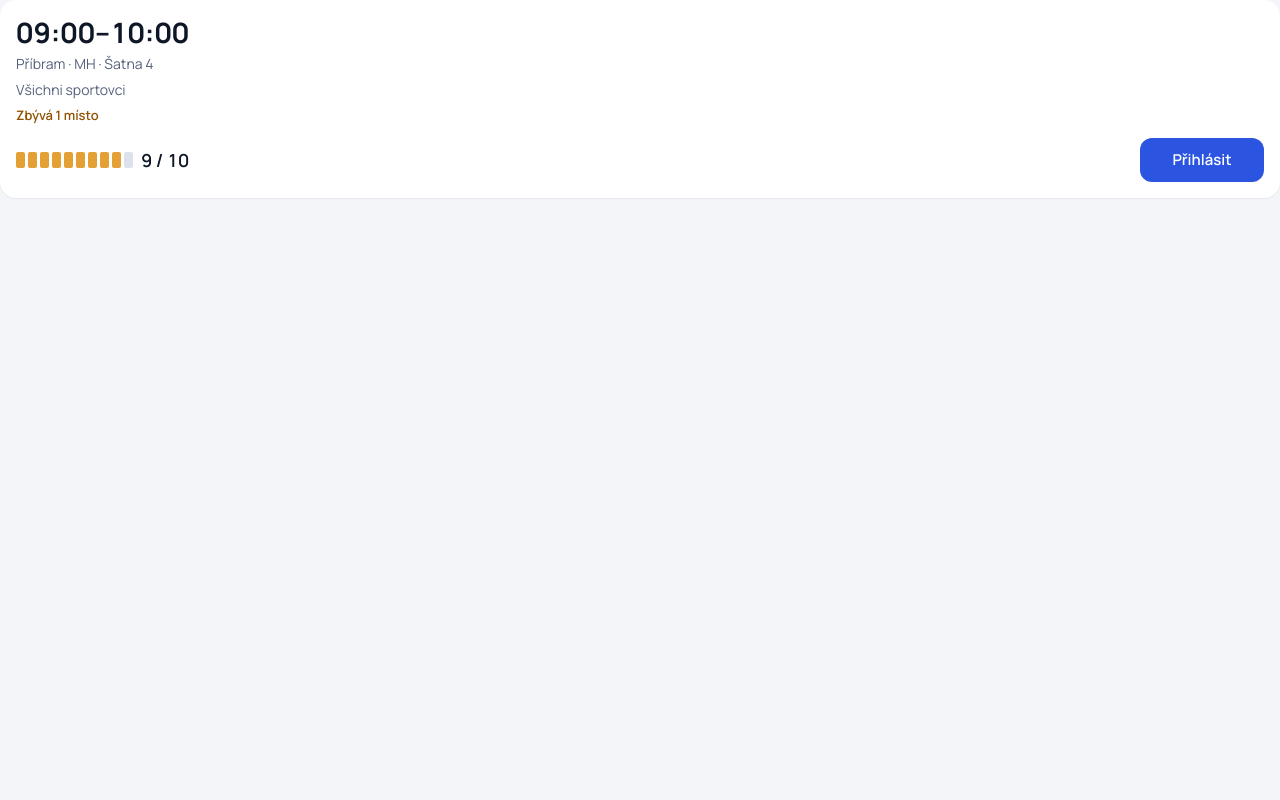
Test case: the booking sheet (AC-268) › refuses to send more children than there are places
This screenshot has width=1280, height=800.
Click the button "Přihlásit".
click(1202, 160)  # box [1140,138,1264,182]
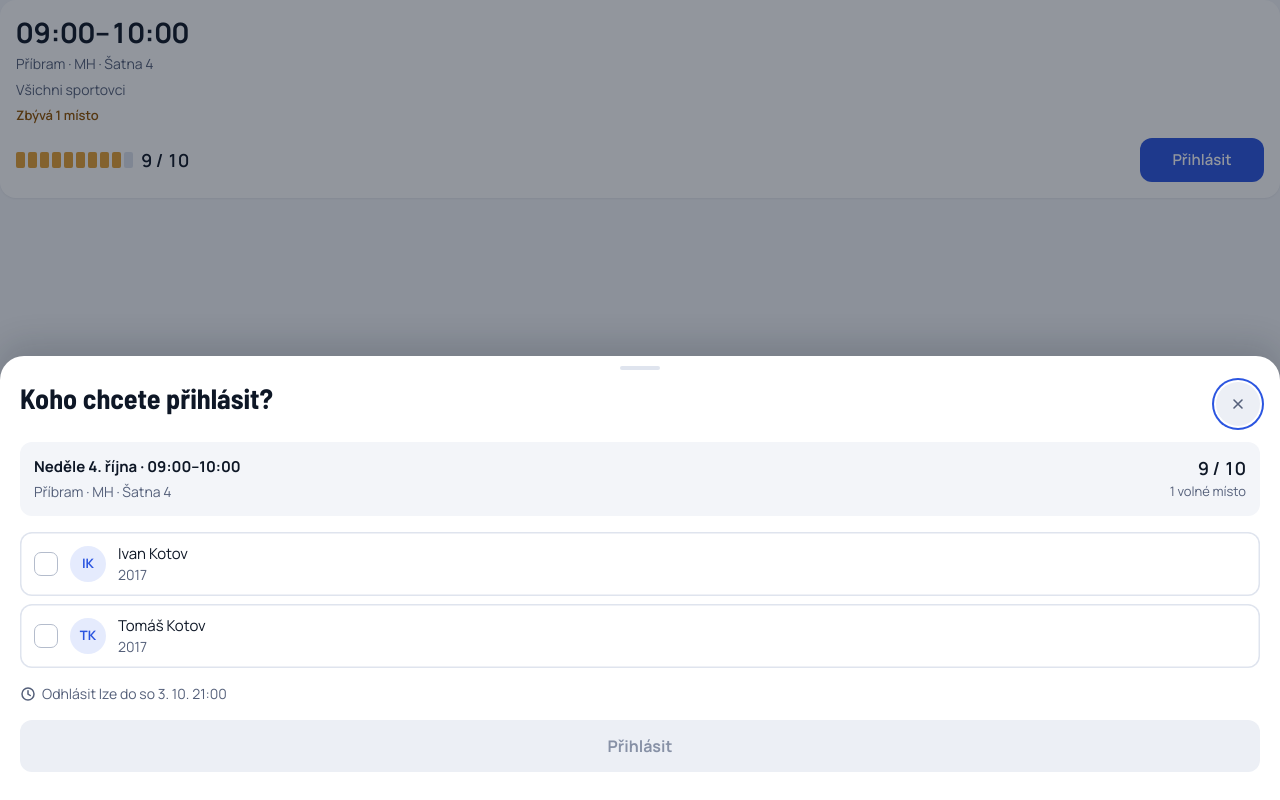
Expected: the dialog shows "1 volné místo", [1170,482,1246,500]
Click the checkbox labelled "IK Ivan Kotov 2017".
click(88, 564)  # box [20,532,1260,596]
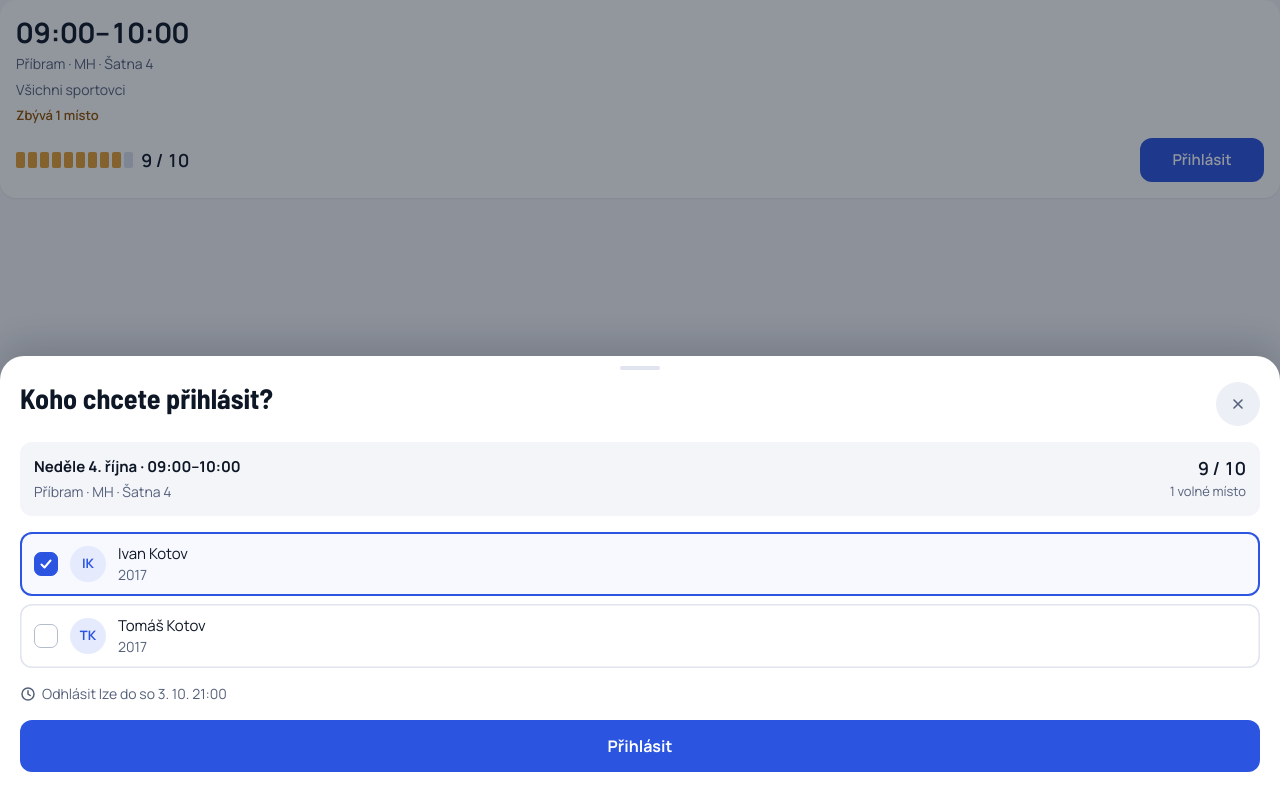
Click the checkbox labelled "TK Tomáš Kotov 2017".
click(88, 636)  # box [20,604,1260,668]
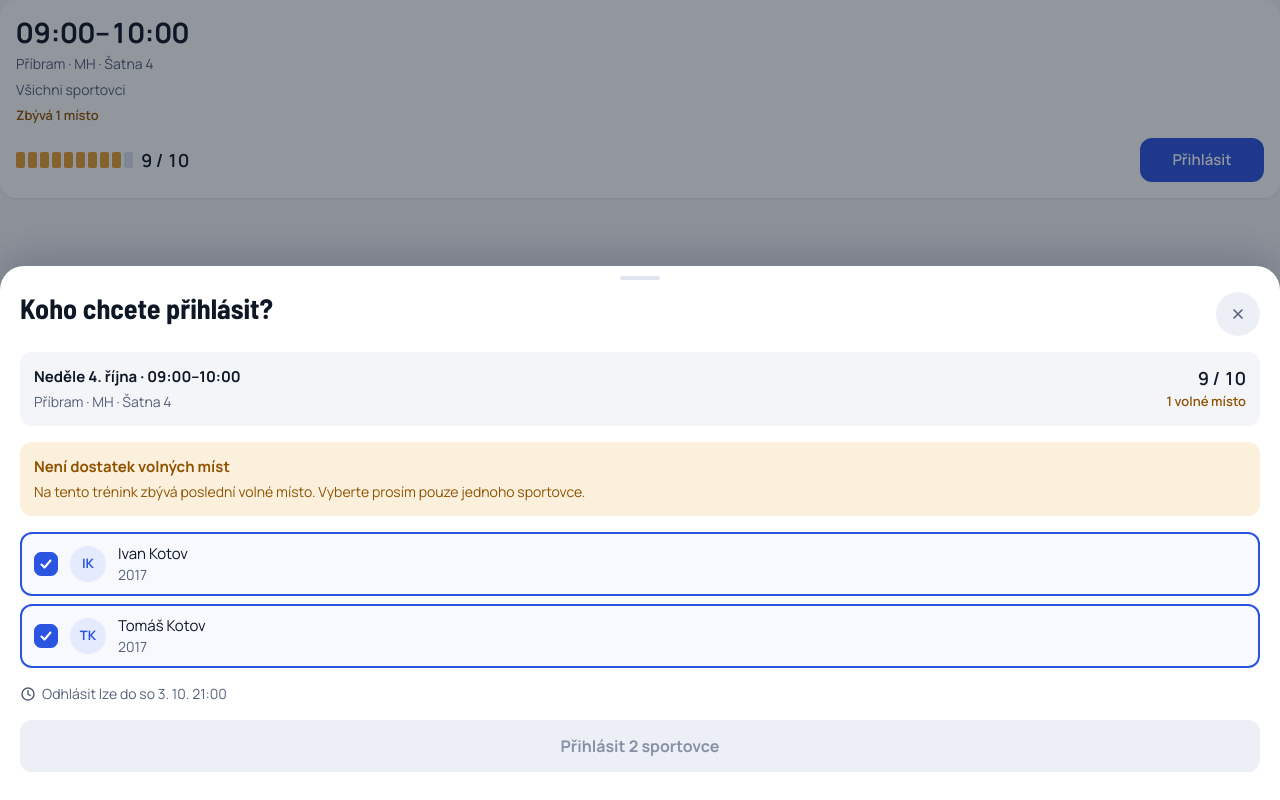
Expected: the checkbox labelled "IK Ivan Kotov 2017" is checked, [20,532,1260,596]
Expected: the checkbox labelled "TK Tomáš Kotov 2017" is checked, [20,604,1260,668]
Expected: the message shows "Není dostatek volných míst", [34,456,230,477]
